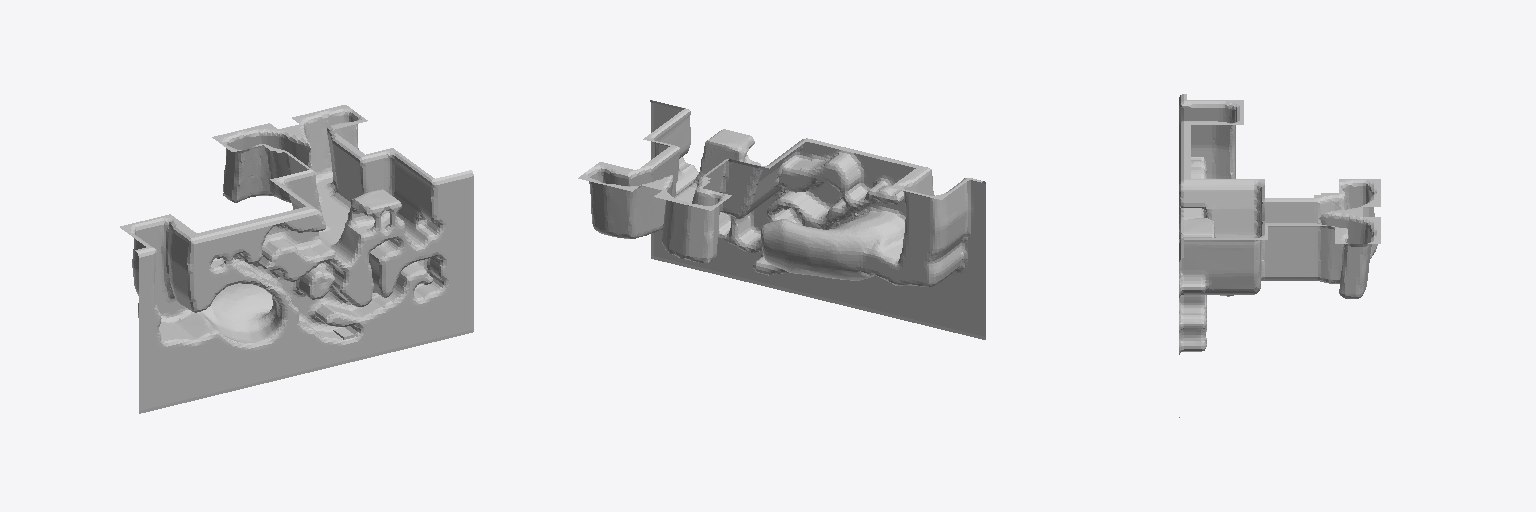
Rendered from E3M2.Display.obj.
3 renders of one model, left to right at view 1: azimuth 30°, elevation 25°; view 2: azimuth 150°, elevation 25°; view 3: azimuth 270°, elevation 25°, orthographic.
Parts seen in each view (by area): view 1: World.Display; view 2: World.Display; view 3: World.Display.
Part boxes in pixels (bbox=[...]): World.Display: bbox=[120, 105, 473, 413]; World.Display: bbox=[578, 100, 985, 339]; World.Display: bbox=[1179, 94, 1380, 417].
Size of the model in its own units: 110 by 50.43 by 57.38.